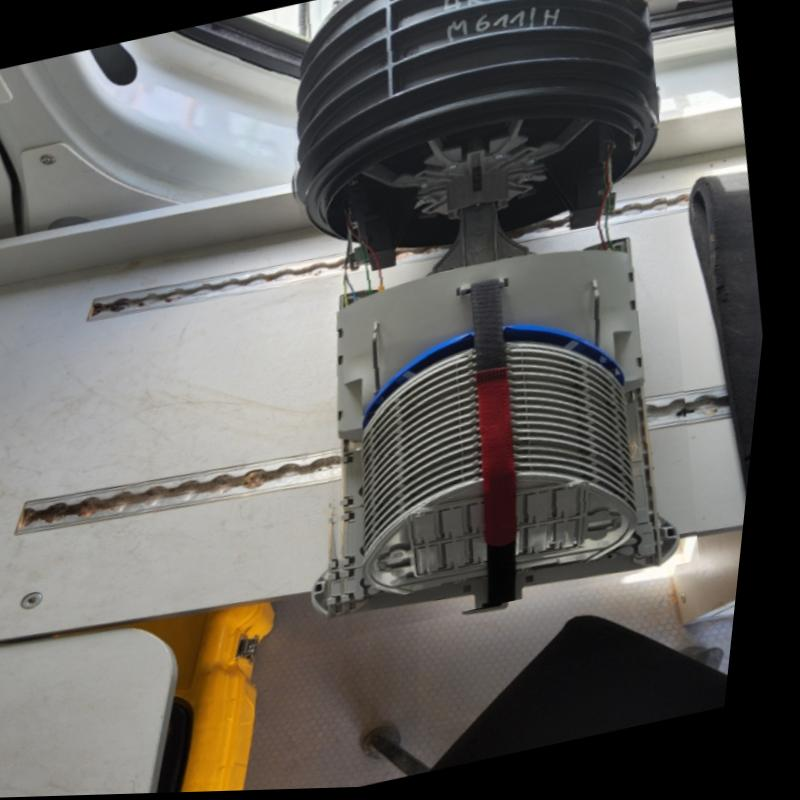NT-Muffen: (222, 0, 759, 645)
